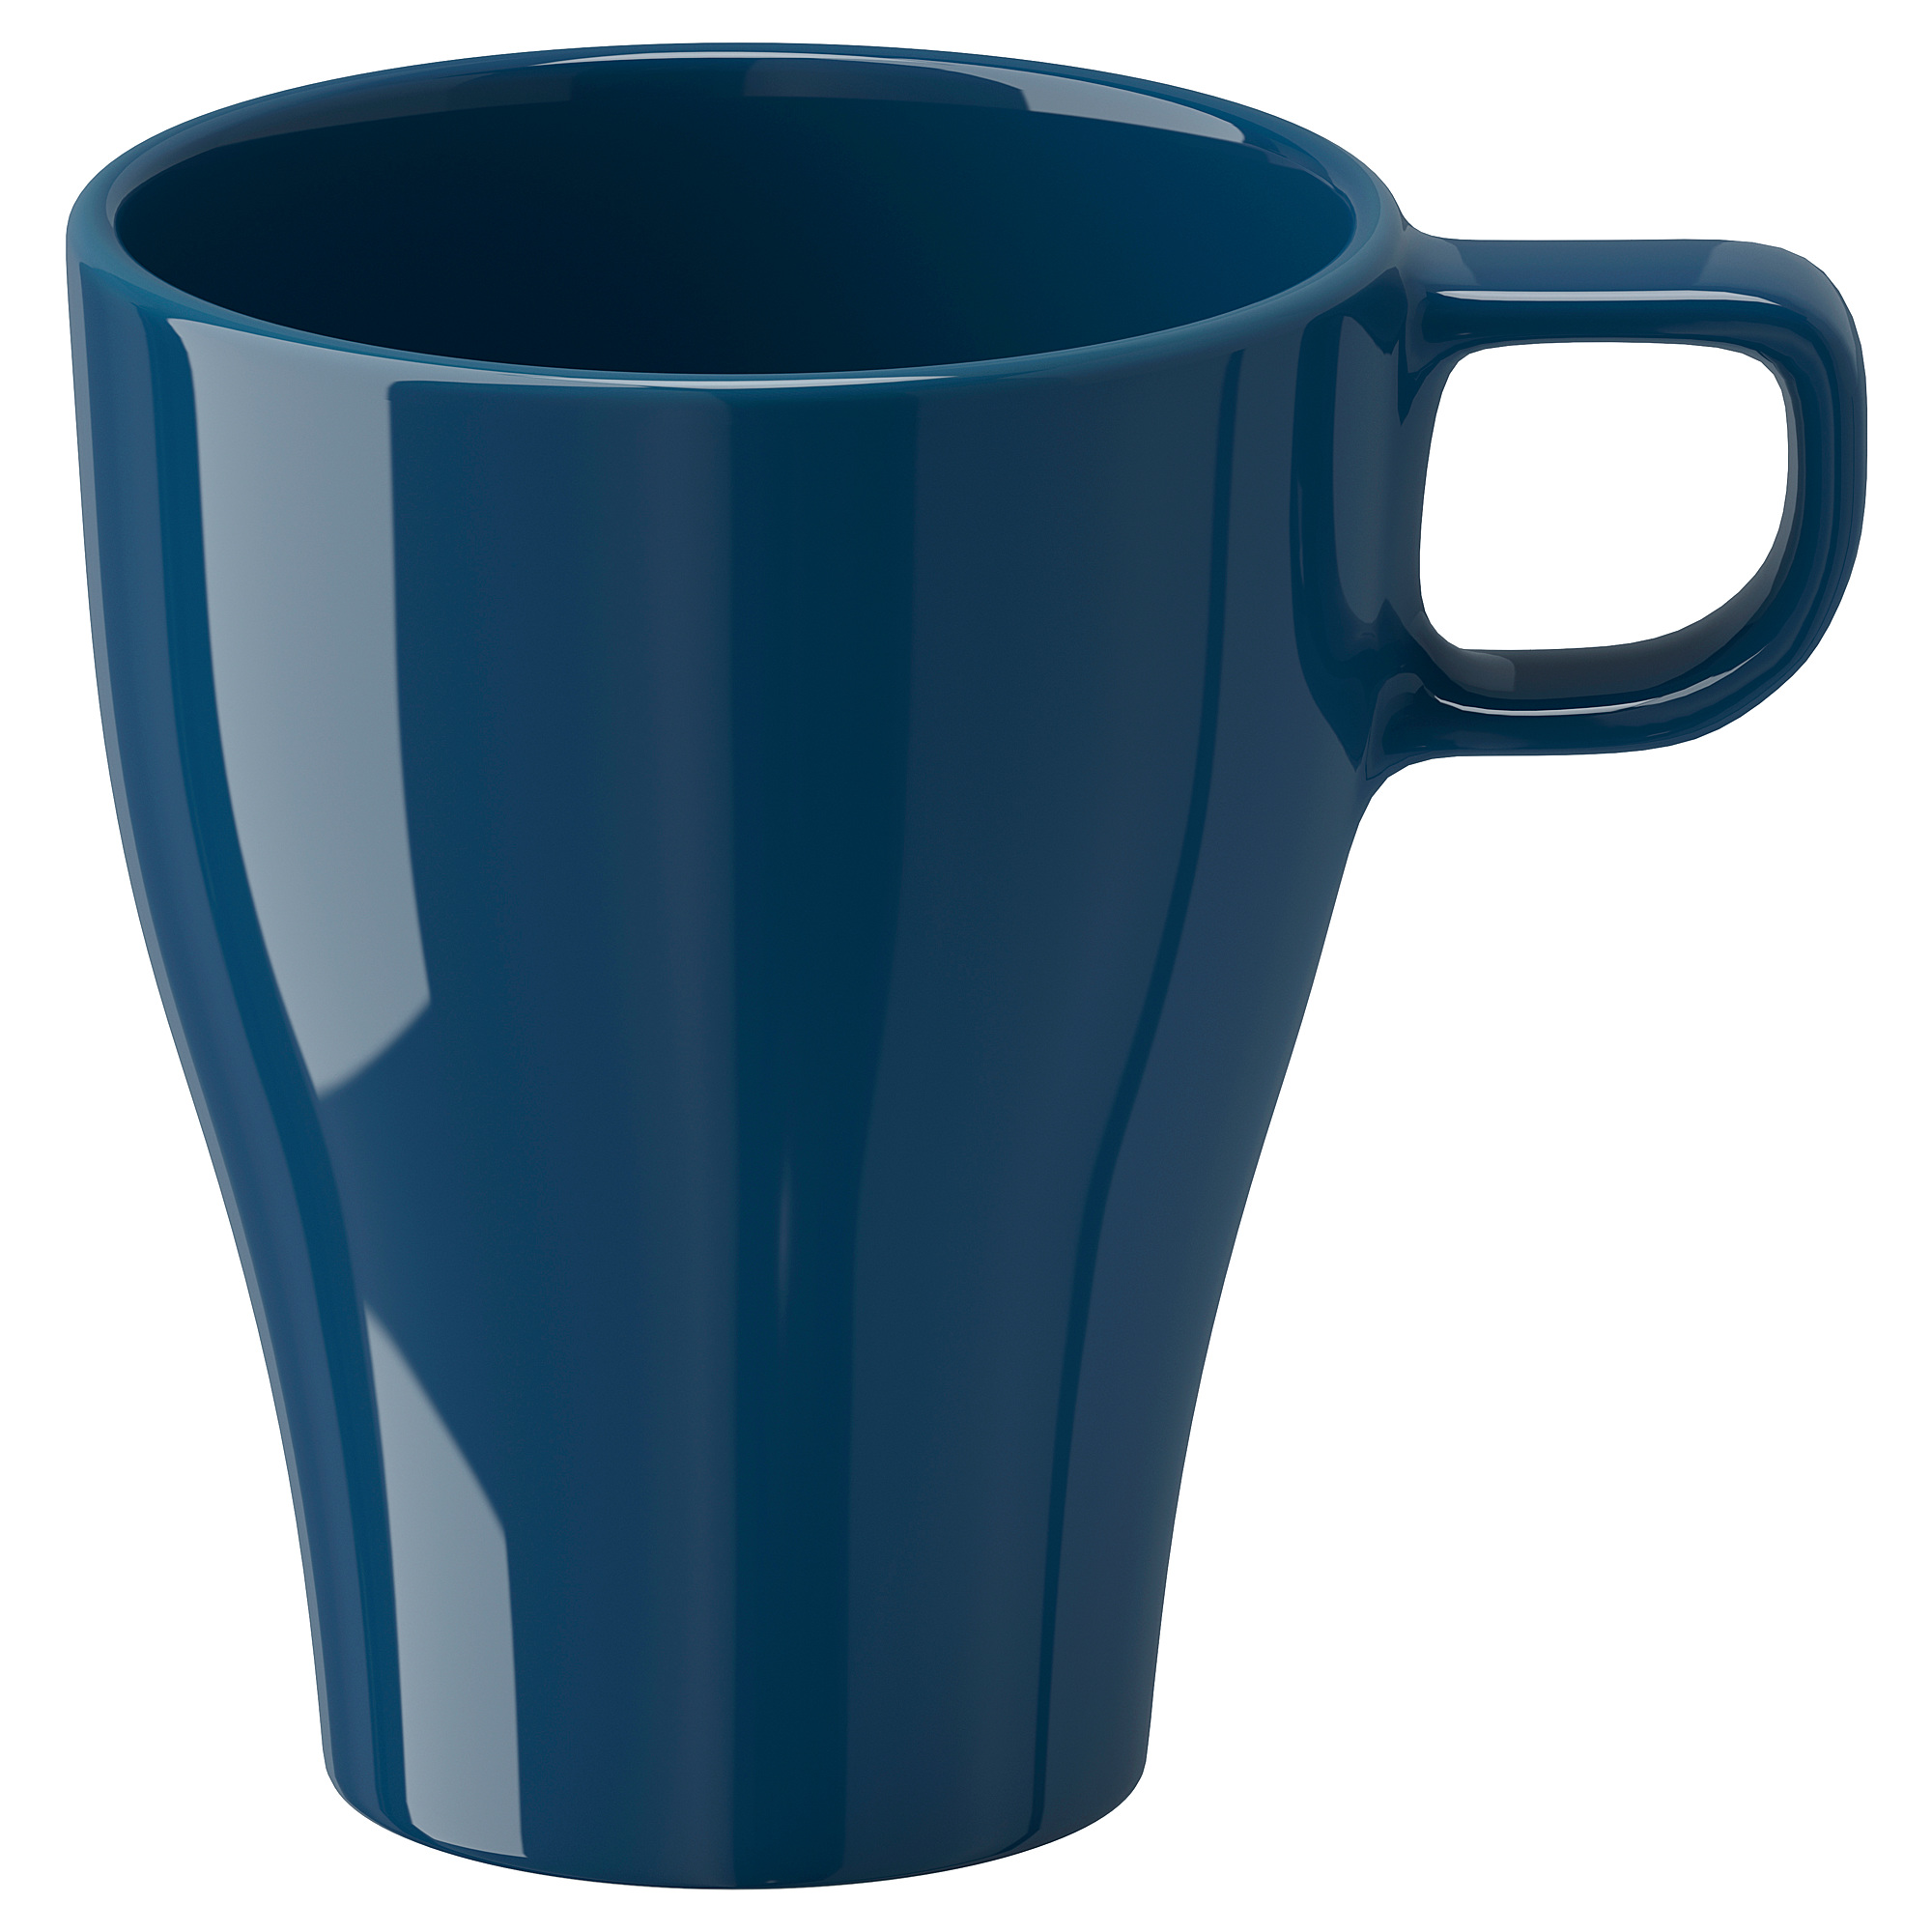gelas: (2, 2, 1867, 1932)
